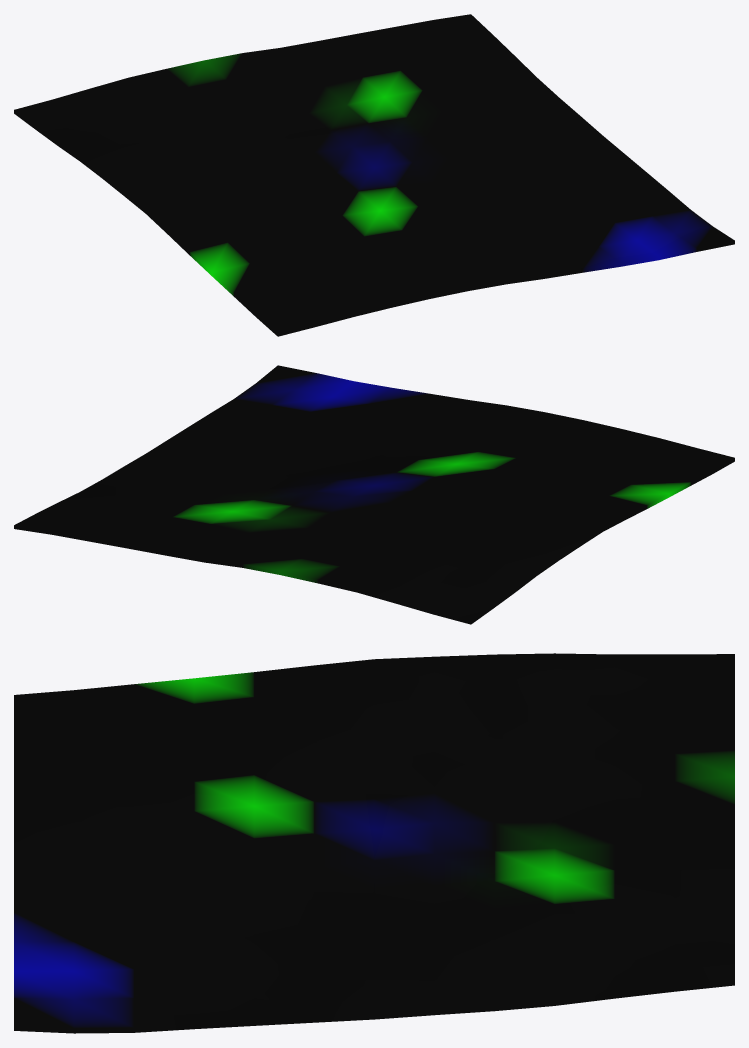
The model's file is coast_23_4.glb.
The picture shows the model from 3 angles, top to bottom: view 1: azimuth 30°, elevation 25°; view 2: azimuth 150°, elevation 25°; view 3: azimuth 270°, elevation 25°; orthographic projection. The views are drawn at different scales.
Visible parts, largest first — view 1: terrain; view 2: terrain; view 3: terrain.
Part boxes in pixels (box(x1,y1,x2,y2)): terrain: box(14, 14, 734, 336); terrain: box(14, 365, 734, 624); terrain: box(14, 653, 734, 1033).
Size of the model in its own units: 192 by 23.68 by 192.
